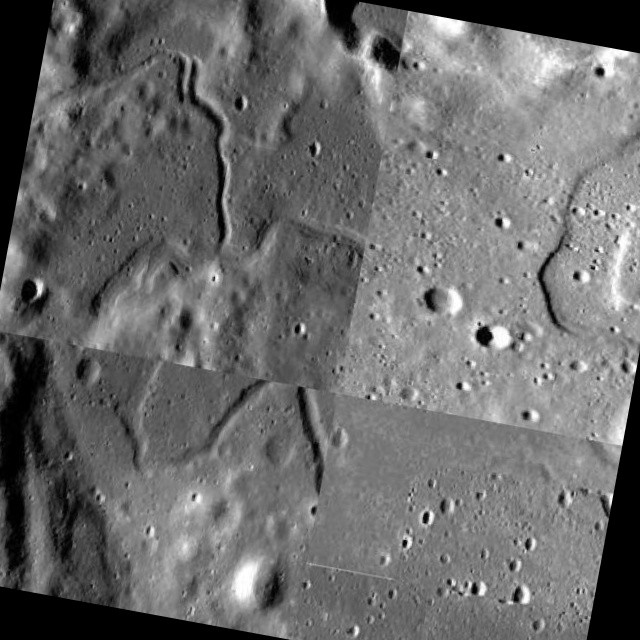crater: (6, 57, 349, 312), (138, 389, 350, 617), (522, 11, 638, 306)
